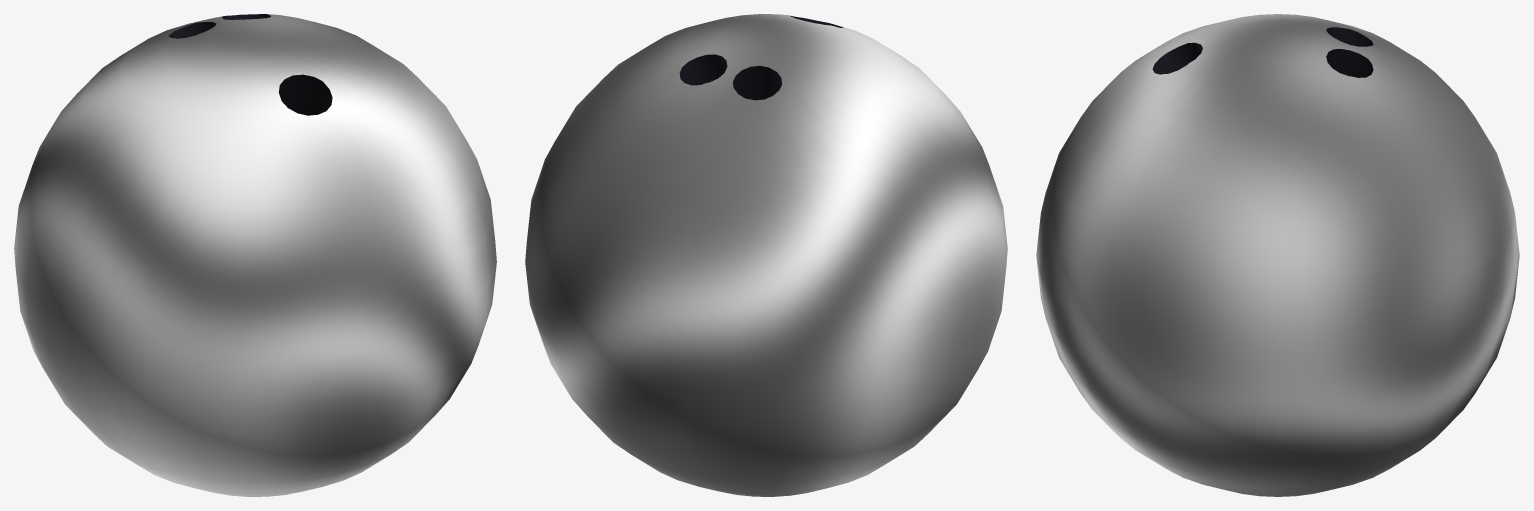
Rendered from ball.glb.
3 renders of one model, left to right at view 1: azimuth 30°, elevation 25°; view 2: azimuth 150°, elevation 25°; view 3: azimuth 270°, elevation 25°, orthographic.
Parts seen in each view (by area): view 1: ball; view 2: ball; view 3: ball.
Part boxes in pixels (<box>): ball: <box>14,14,496,496</box>; ball: <box>525,14,1007,496</box>; ball: <box>1036,14,1519,496</box>.
Size of the model in its own units: 0.218 by 0.218 by 0.218.
Materials: 2 (1 with a texture image).
